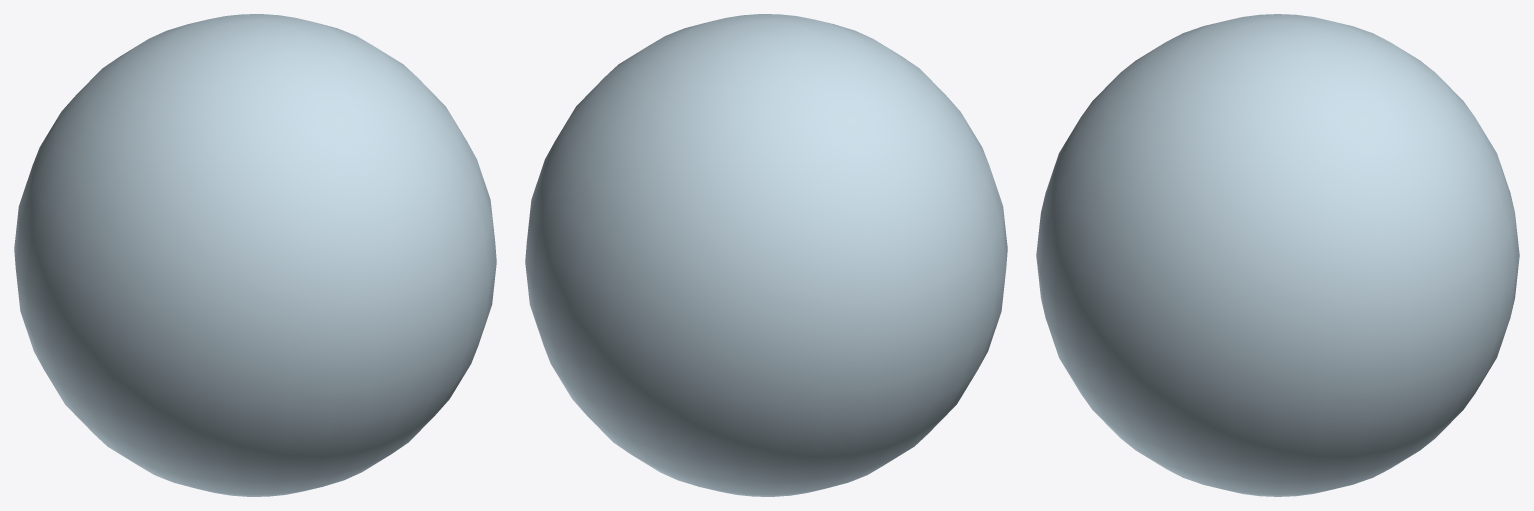
The model's file is marble.fbx.
3 renders of one model, left to right at view 1: azimuth 30°, elevation 25°; view 2: azimuth 150°, elevation 25°; view 3: azimuth 270°, elevation 25°, orthographic.
Visible parts, largest first — view 1: Sphere; view 2: Sphere; view 3: Sphere.
Part boxes in pixels (x1=…): Sphere: x1=14, y1=14, x2=496, y2=496; Sphere: x1=525, y1=14, x2=1007, y2=496; Sphere: x1=1036, y1=14, x2=1519, y2=496.
Size of the model in its own units: 200 by 200 by 200.
